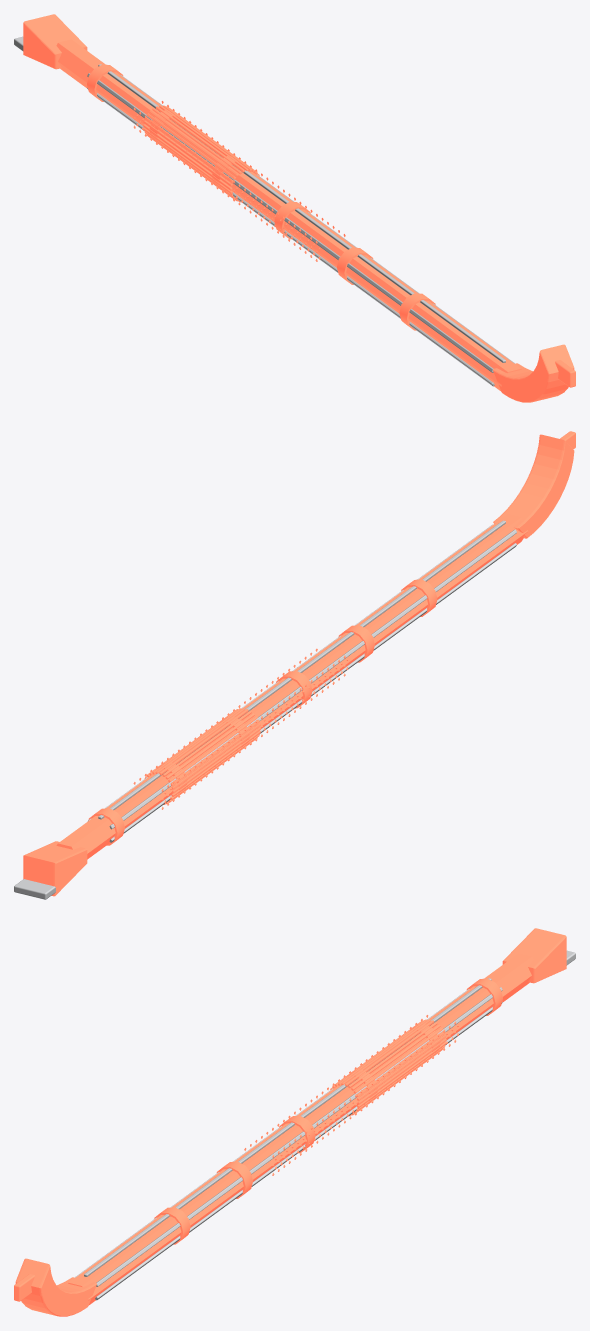
File: crowbar.glb
The picture shows the model from 3 angles, top to bottom: view 1: azimuth 30°, elevation 25°; view 2: azimuth 150°, elevation 25°; view 3: azimuth 330°, elevation 25°; orthographic projection.
Visible parts, largest first — view 1: crowbar; view 2: crowbar; view 3: crowbar.
Part boxes in pixels (x1,y1,x2,y2): crowbar: (14,14,575,402); crowbar: (14,431,575,899); crowbar: (14,928,575,1316).
Size of the model in its own units: 0.03 by 0.0705 by 0.8698.
